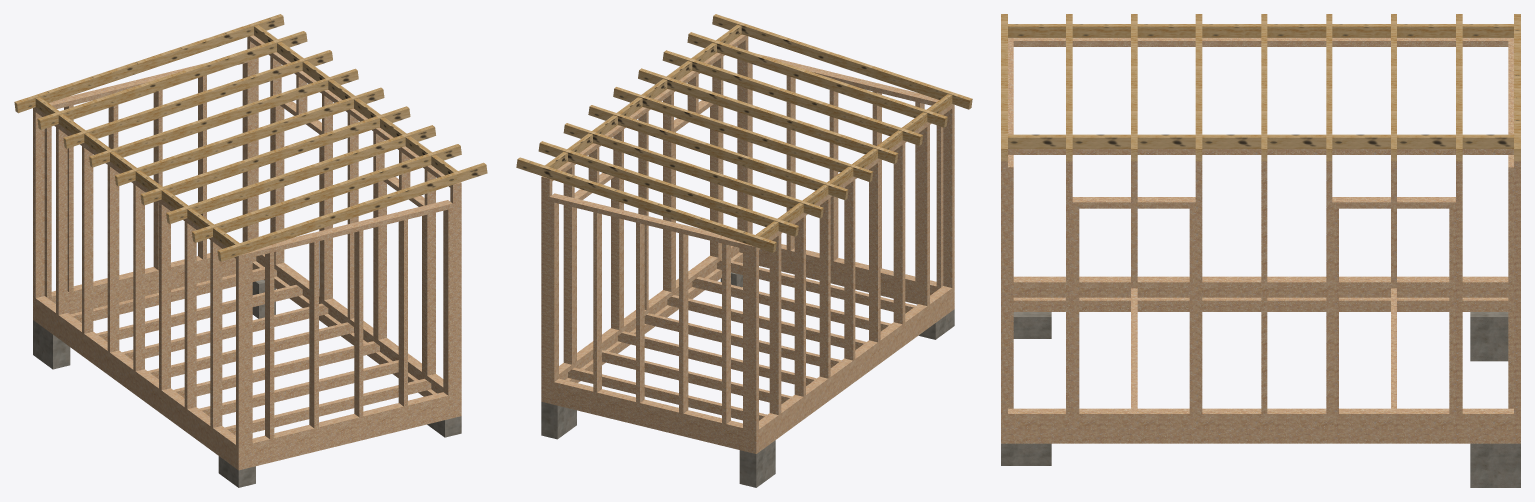
Rendered from SM_Woodshed.fbx.
The picture shows the model from 3 angles, left to right: view 1: azimuth 30°, elevation 25°; view 2: azimuth 150°, elevation 25°; view 3: azimuth 270°, elevation 25°; orthographic projection. The views are drawn at different scales.
Visible parts, largest first — view 1: SM_Woodshed; view 2: SM_Woodshed; view 3: SM_Woodshed.
Boxes of the visible parts, bbox=[...] form: SM_Woodshed: bbox=[14, 14, 487, 487]; SM_Woodshed: bbox=[516, 14, 972, 487]; SM_Woodshed: bbox=[1001, 14, 1520, 487].
Bounding box in the file's own units: 300 × 301 × 400.
